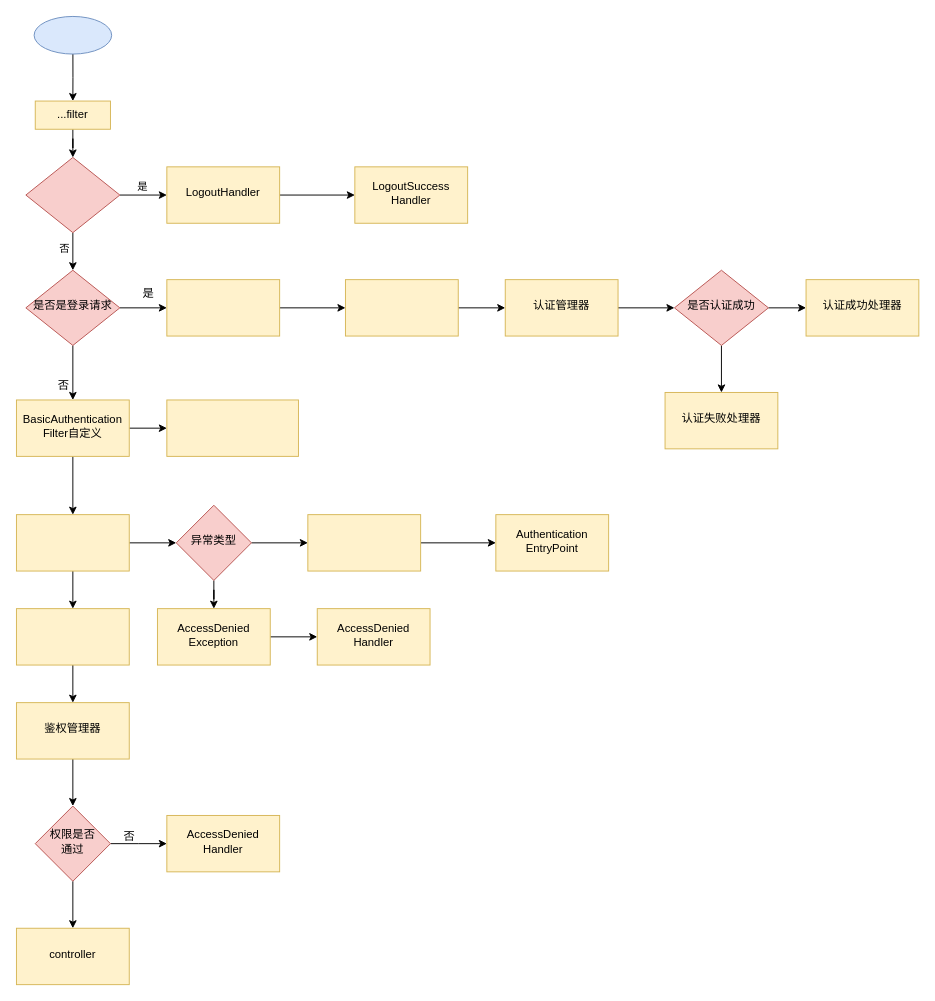
This 935x1001 diagram has some shape labels left out. Here are the shapes that lost their labels. From the top down, the centre of each, then its label:
point (72, 35): 用户请求
point (72, 195): 是否是登出请求
point (223, 307): 自定义验证码filter
point (401, 307): UsernamePassword AuthenticatiionFilter
point (232, 427): AuthenticationEntryPoint 认证失败处理器
point (72, 542): ExceptionTransaction Filter
point (364, 542): Authentication Exception
point (72, 636): FilterSecurity Interceptor
